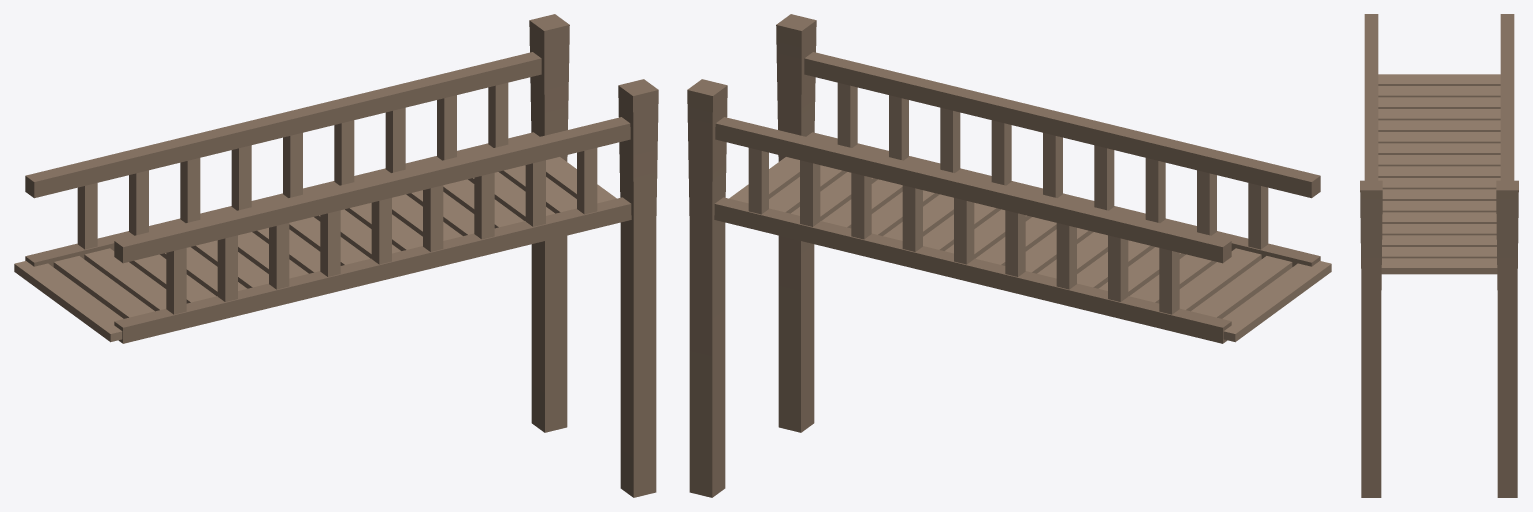
The model's file is BridgeExtender.fbx.
3 views of the same model, side by side, from view 1: azimuth 30°, elevation 25°; view 2: azimuth 150°, elevation 25°; view 3: azimuth 270°, elevation 25° (orthographic). The views are drawn at different scales.
Visible parts, largest first — view 1: brigdePole1, bridgeTop, bridgeTop1, bridgeBottom, brigdePole3, BridgePlank16, bridgeBottom1, BridgePlank, BridgePlank1, brigeMiniPole7, brigeMiniPole8, brigeMiniPole10 (+29 smaller); view 2: brigdePole3, bridgeTop1, bridgeTop, bridgeBottom1, brigdePole1, BridgePlank16, bridgeBottom, BridgePlank, BridgePlank1, brigeMiniPole20, brigeMiniPole14, brigeMiniPole16 (+29 smaller); view 3: brigdePole1, brigdePole3, bridgeTop, bridgeTop1, BridgePlank15, BridgePlank3, BridgePlank2, BridgePlank1, BridgePlank, BridgePlank6, BridgePlank5, BridgePlank4 (+9 smaller).
Boxes of the visible parts, left/top/right/bottom form: brigdePole1: left=618, top=79, right=658, bottom=497; bridgeTop: left=114, top=117, right=630, bottom=263; bridgeTop1: left=25, top=52, right=541, bottom=198; bridgeBottom: left=114, top=197, right=631, bottom=343; brigdePole3: left=529, top=14, right=569, bottom=432; BridgePlank16: left=14, top=261, right=123, bottom=342; bridgeBottom1: left=25, top=132, right=539, bottom=266; BridgePlank: left=53, top=256, right=154, bottom=318; BridgePlank1: left=84, top=248, right=166, bottom=311; brigeMiniPole7: left=269, top=223, right=289, bottom=289; brigeMiniPole8: left=320, top=210, right=340, bottom=276; brigeMiniPole10: left=423, top=185, right=443, bottom=251; brigdePole3: left=687, top=79, right=727, bottom=497; bridgeTop1: left=715, top=117, right=1231, bottom=263; bridgeTop: left=804, top=52, right=1320, bottom=198; bridgeBottom1: left=714, top=197, right=1231, bottom=343; brigdePole1: left=776, top=14, right=816, bottom=432; BridgePlank16: left=1222, top=261, right=1331, bottom=342; bridgeBottom: left=806, top=132, right=1320, bottom=266; BridgePlank: left=1191, top=256, right=1292, bottom=318; BridgePlank1: left=1179, top=248, right=1261, bottom=311; brigeMiniPole20: left=1056, top=223, right=1076, bottom=289; brigeMiniPole14: left=748, top=148, right=768, bottom=214; brigeMiniPole16: left=851, top=173, right=871, bottom=239; brigdePole1: left=1360, top=180, right=1382, bottom=497; brigdePole3: left=1496, top=180, right=1518, bottom=497; bridgeTop: left=1364, top=14, right=1378, bottom=180; bridgeTop1: left=1500, top=14, right=1514, bottom=180; BridgePlank15: left=1381, top=258, right=1497, bottom=274; BridgePlank3: left=1378, top=120, right=1500, bottom=131; BridgePlank2: left=1378, top=109, right=1500, bottom=120; BridgePlank1: left=1378, top=97, right=1500, bottom=108; BridgePlank: left=1378, top=86, right=1500, bottom=97; BridgePlank6: left=1378, top=155, right=1500, bottom=166; BridgePlank5: left=1378, top=143, right=1500, bottom=154; BridgePlank4: left=1378, top=132, right=1500, bottom=143.
Size of the model in its own units: 21.22 by 15 by 7.
